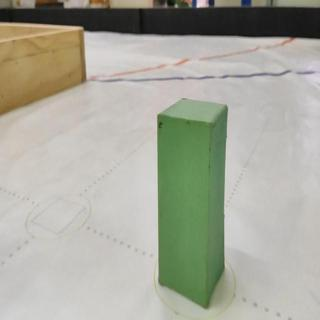greenbox: (156, 95, 231, 309)
